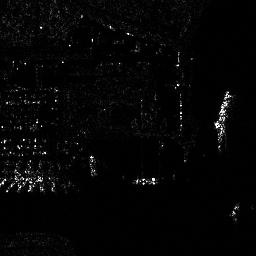ship: (214, 90, 233, 129)
